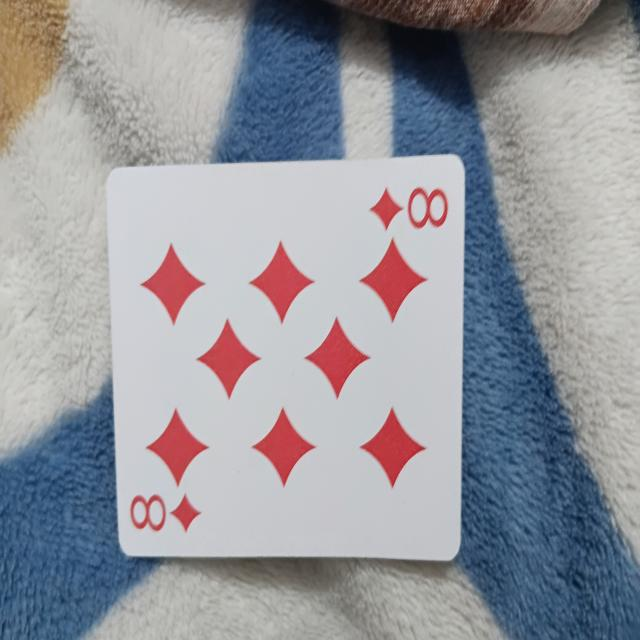8D: (110, 168, 462, 558)
